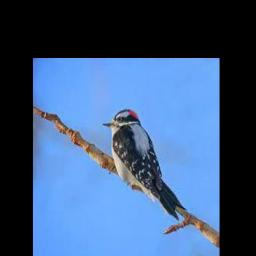Woodpecker: (102, 109, 186, 220)
